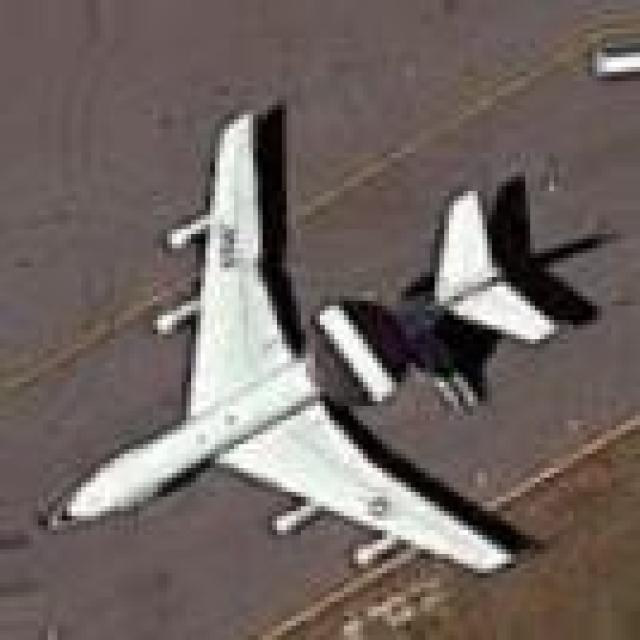E-3_TopDown: (33, 93, 620, 580)
